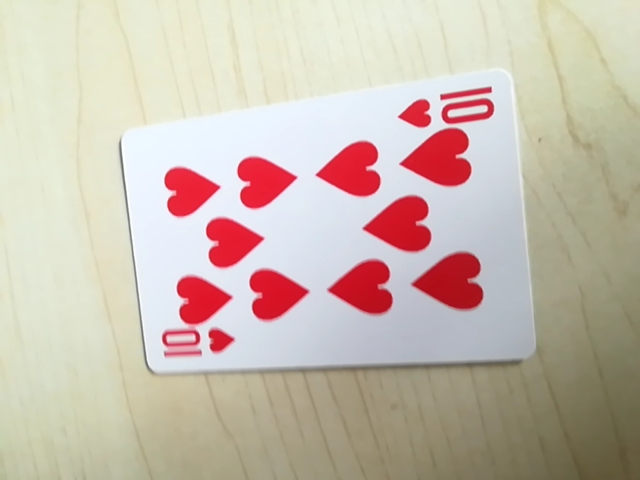hx 10: (399, 83, 502, 132), (157, 323, 238, 369)
